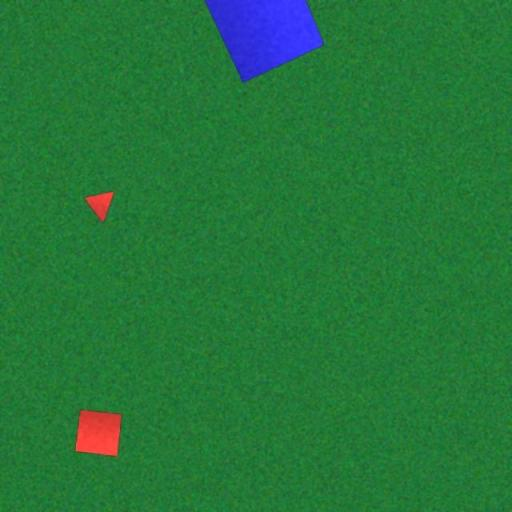BLUE_SQUARE: (204, 0, 326, 84)
RED_SQUARE: (74, 409, 122, 457)
